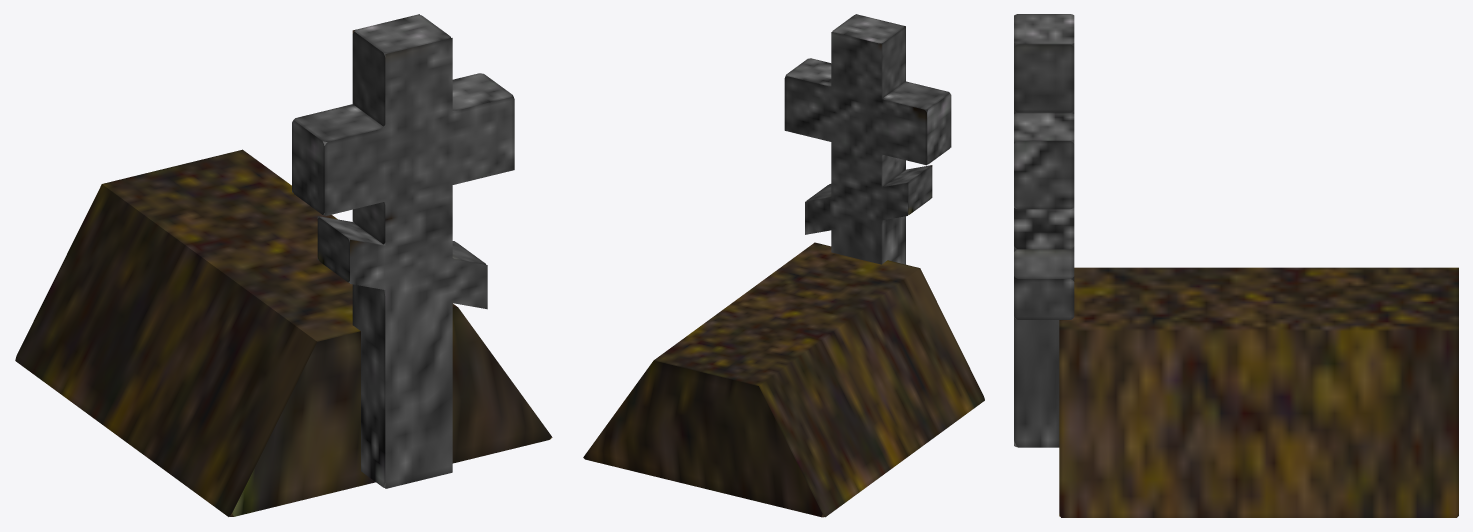
File: grave.fbx
3 renders of one model, left to right at view 1: azimuth 30°, elevation 25°; view 2: azimuth 150°, elevation 25°; view 3: azimuth 270°, elevation 25°, orthographic. The views are drawn at different scales.
Parts seen in each view (by area): view 1: cuboid, cuboid_1; view 2: cuboid, cuboid_1; view 3: cuboid, cuboid_1.
Part boxes in pixels (bbox=[...]): cuboid: bbox=[15, 149, 552, 516]; cuboid_1: bbox=[292, 14, 514, 488]; cuboid: bbox=[583, 242, 984, 517]; cuboid_1: bbox=[784, 14, 951, 264]; cuboid: bbox=[1059, 267, 1458, 517]; cuboid_1: bbox=[1014, 14, 1074, 447].
Size of the model in its own units: 288 by 381 by 369.
Materials: 1 (1 with a texture image).
